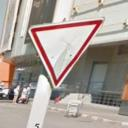preferencia: (26, 16, 107, 92)
